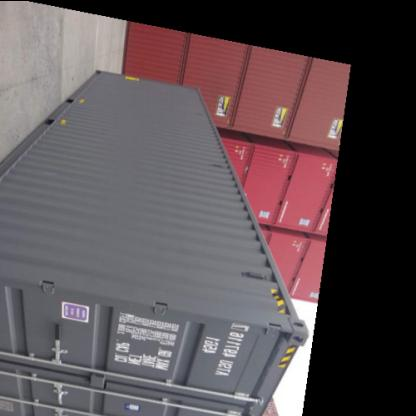Damage: (204, 156, 234, 174), (194, 95, 208, 124)
